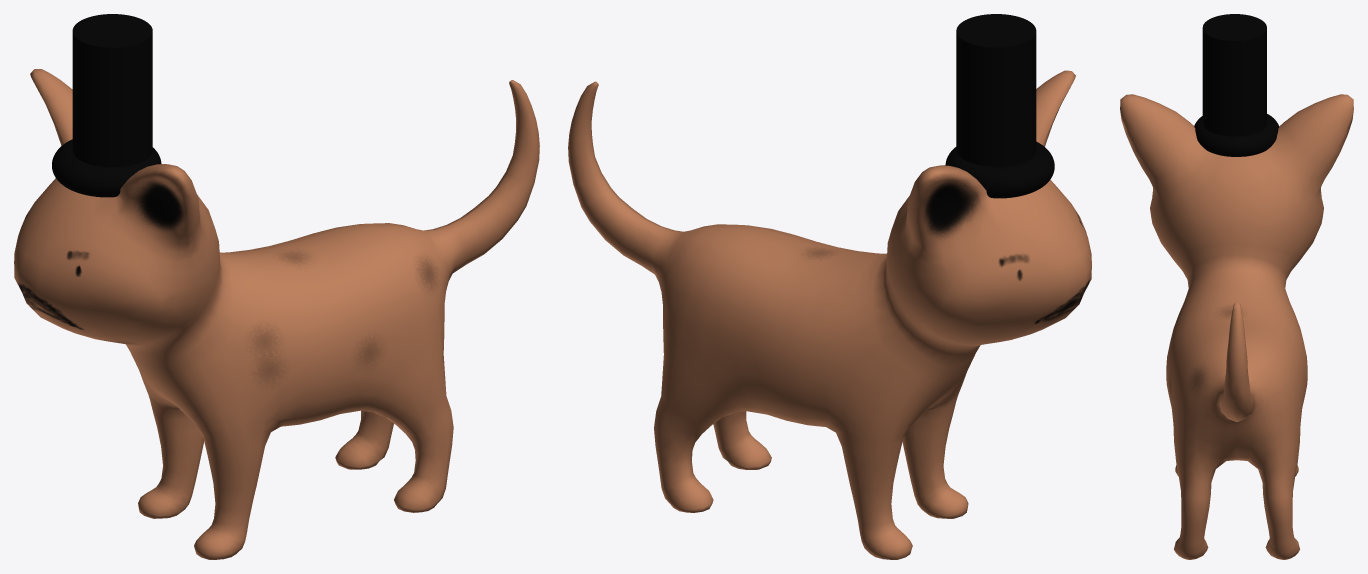
The model's file is katt2.glb.
The picture shows the model from 3 angles, left to right: view 1: azimuth 30°, elevation 25°; view 2: azimuth 150°, elevation 25°; view 3: azimuth 270°, elevation 25°; orthographic projection. The views are drawn at different scales.
Visible parts, largest first — view 1: mesh_id31, mesh_id37, mesh_id39; view 2: mesh_id31, mesh_id37, mesh_id39; view 3: mesh_id31, mesh_id37, mesh_id39.
Part boxes in pixels (x1,y1,x2,y2): mesh_id31: (14,69,539,559); mesh_id37: (72,14,152,167); mesh_id39: (52,139,161,197); mesh_id31: (568,70,1091,559); mesh_id37: (956,14,1036,166); mesh_id39: (945,141,1054,198); mesh_id31: (1120,94,1353,559); mesh_id37: (1202,14,1266,136); mesh_id39: (1194,114,1279,156).
Bounding box in the file's own units: 0.3959 × 0.3812 × 0.1932.
Materials: 3 (1 with a texture image).
